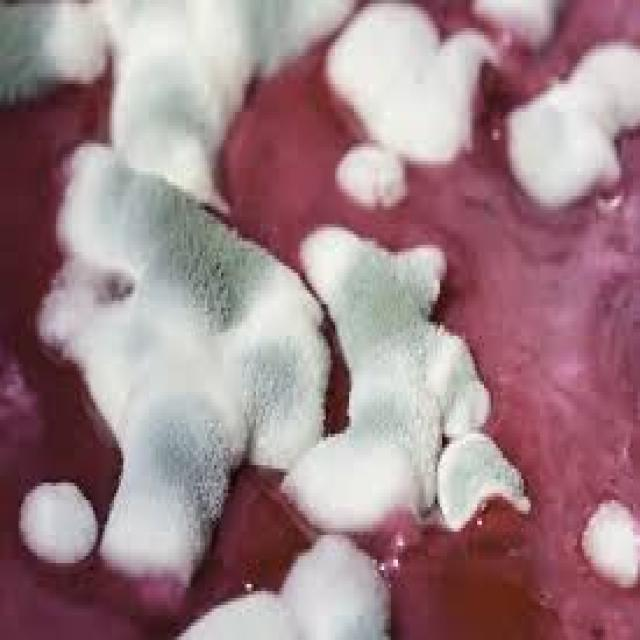biodegradable: (0, 0, 638, 637), (33, 137, 328, 574), (289, 234, 487, 528), (88, 0, 353, 206), (319, 0, 496, 154), (156, 528, 389, 637), (505, 38, 638, 210), (433, 430, 530, 532), (0, 0, 104, 94), (16, 476, 98, 563), (575, 493, 638, 588), (330, 133, 405, 206), (463, 0, 558, 45)
